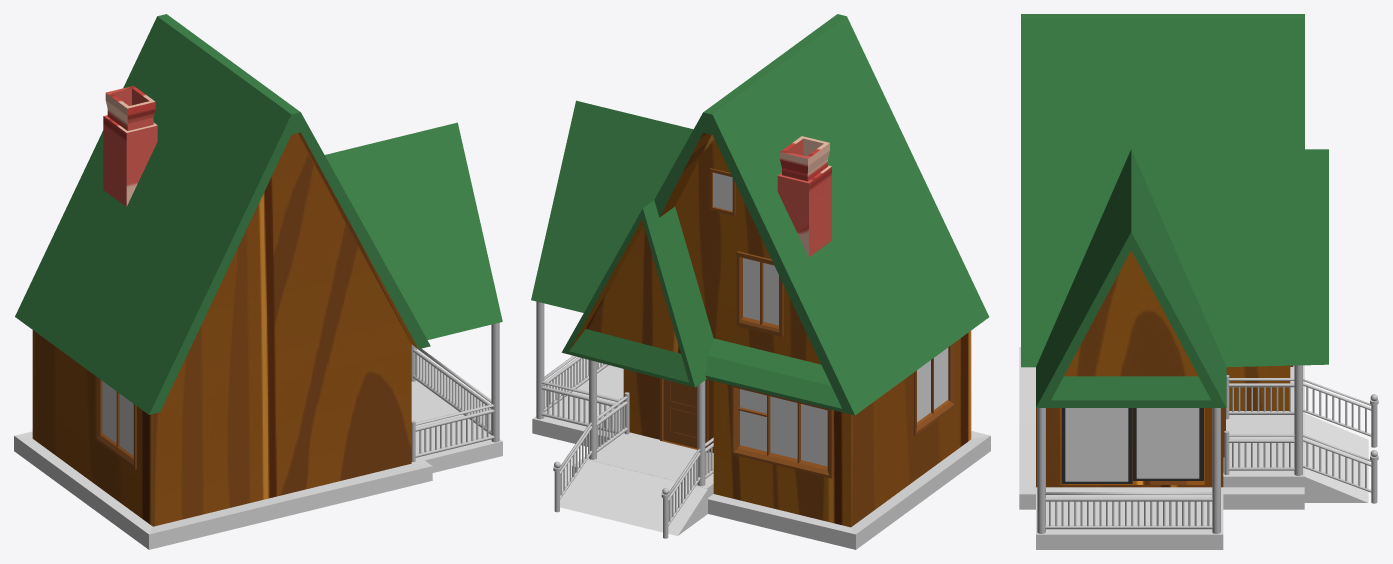
Rendered from House.fbx.
3 renders of one model, left to right at view 1: azimuth 30°, elevation 25°; view 2: azimuth 150°, elevation 25°; view 3: azimuth 270°, elevation 25°, orthographic. The views are drawn at different scales.
Visible parts, largest first — view 1: house.bu.002, house.base, house.window.007, wood fence.047, wood fence.036, pillar.003; view 2: house.bu.002, house.base, house.window.006, stairs, house.window.001, house.window.007, house.door.001, wood fence.030, wood fence.047, ball.001, ball.000, wood fence.024 (+5 smaller); view 3: house.bu.002, house.base, house.door.004, house.door.005, stairs, wood fence.047, ball.001, ball.000, wood fence.024, wood fence.012, pillar.002, pillar.003 (+1 smaller).
Part boxes in pixels (x1=…): house.bu.002: x1=15, y1=14, x2=502, y2=526; house.base: x1=14, y1=380, x2=502, y2=549; house.window.007: x1=94, y1=375, x2=136, y2=469; wood fence.047: x1=413, y1=345, x2=491, y2=434; wood fence.036: x1=411, y1=404, x2=494, y2=461; pillar.003: x1=491, y1=322, x2=499, y2=442; house.bu.002: x1=531, y1=14, x2=989, y2=527; house.base: x1=532, y1=365, x2=990, y2=549; house.window.006: x1=731, y1=385, x2=832, y2=478; stairs: x1=560, y1=459, x2=707, y2=535; house.window.001: x1=736, y1=251, x2=783, y2=336; house.window.007: x1=914, y1=342, x2=955, y2=435; house.door.001: x1=663, y1=379, x2=705, y2=448; wood fence.030: x1=541, y1=381, x2=623, y2=433; wood fence.047: x1=544, y1=355, x2=608, y2=411; ball.001: x1=553, y1=422, x2=592, y2=512; ball.000: x1=661, y1=449, x2=700, y2=538; wood fence.024: x1=597, y1=392, x2=629, y2=452; house.bu.002: x1=1021, y1=14, x2=1328, y2=487; house.base: x1=1019, y1=347, x2=1304, y2=549; house.door.004: x1=1061, y1=408, x2=1132, y2=483; house.door.005: x1=1133, y1=408, x2=1203, y2=480; stairs: x1=1304, y1=413, x2=1368, y2=502; wood fence.047: x1=1045, y1=492, x2=1212, y2=529; ball.001: x1=1302, y1=435, x2=1378, y2=503; ball.000: x1=1303, y1=379, x2=1378, y2=447; wood fence.024: x1=1224, y1=430, x2=1294, y2=474; wood fence.012: x1=1226, y1=375, x2=1294, y2=419; pillar.002: x1=1212, y1=408, x2=1220, y2=533; pillar.003: x1=1037, y1=408, x2=1045, y2=533.
Size of the model in its own units: 455 by 484 by 370.
